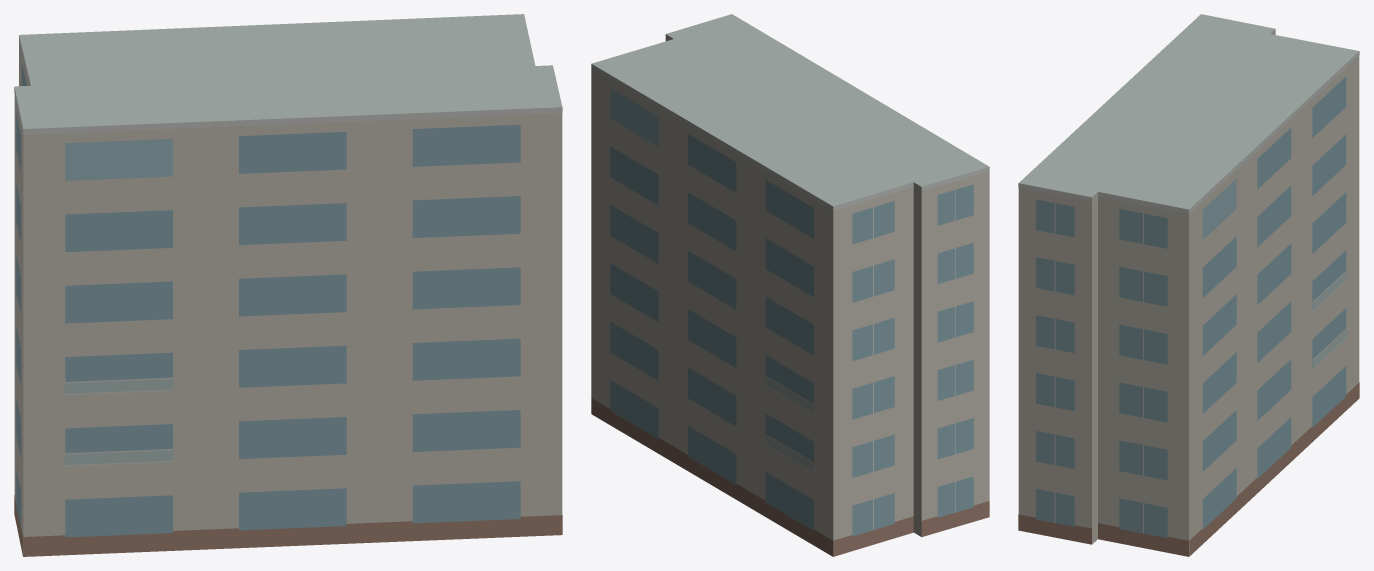
The model's file is survey-upis-32903188.glb.
3 views of the same model, side by side, from view 1: azimuth 30°, elevation 25°; view 2: azimuth 150°, elevation 25°; view 3: azimuth 270°, elevation 25° (orthographic). The views are drawn at different scales.
Visible parts, largest first — view 1: survey-upis-32903188.tmp; view 2: survey-upis-32903188.tmp; view 3: survey-upis-32903188.tmp.
Part boxes in pixels (x1,y1,x2,y2): survey-upis-32903188.tmp: (14, 14, 562, 556); survey-upis-32903188.tmp: (591, 14, 989, 556); survey-upis-32903188.tmp: (1018, 14, 1359, 556).
Size of the model in its own units: 22.11 by 18.3 by 16.29.
